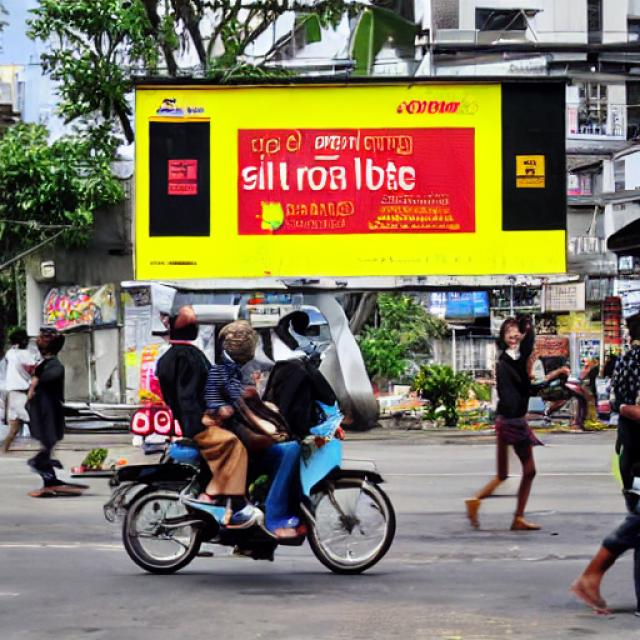Billboard: (130, 72, 572, 284)
